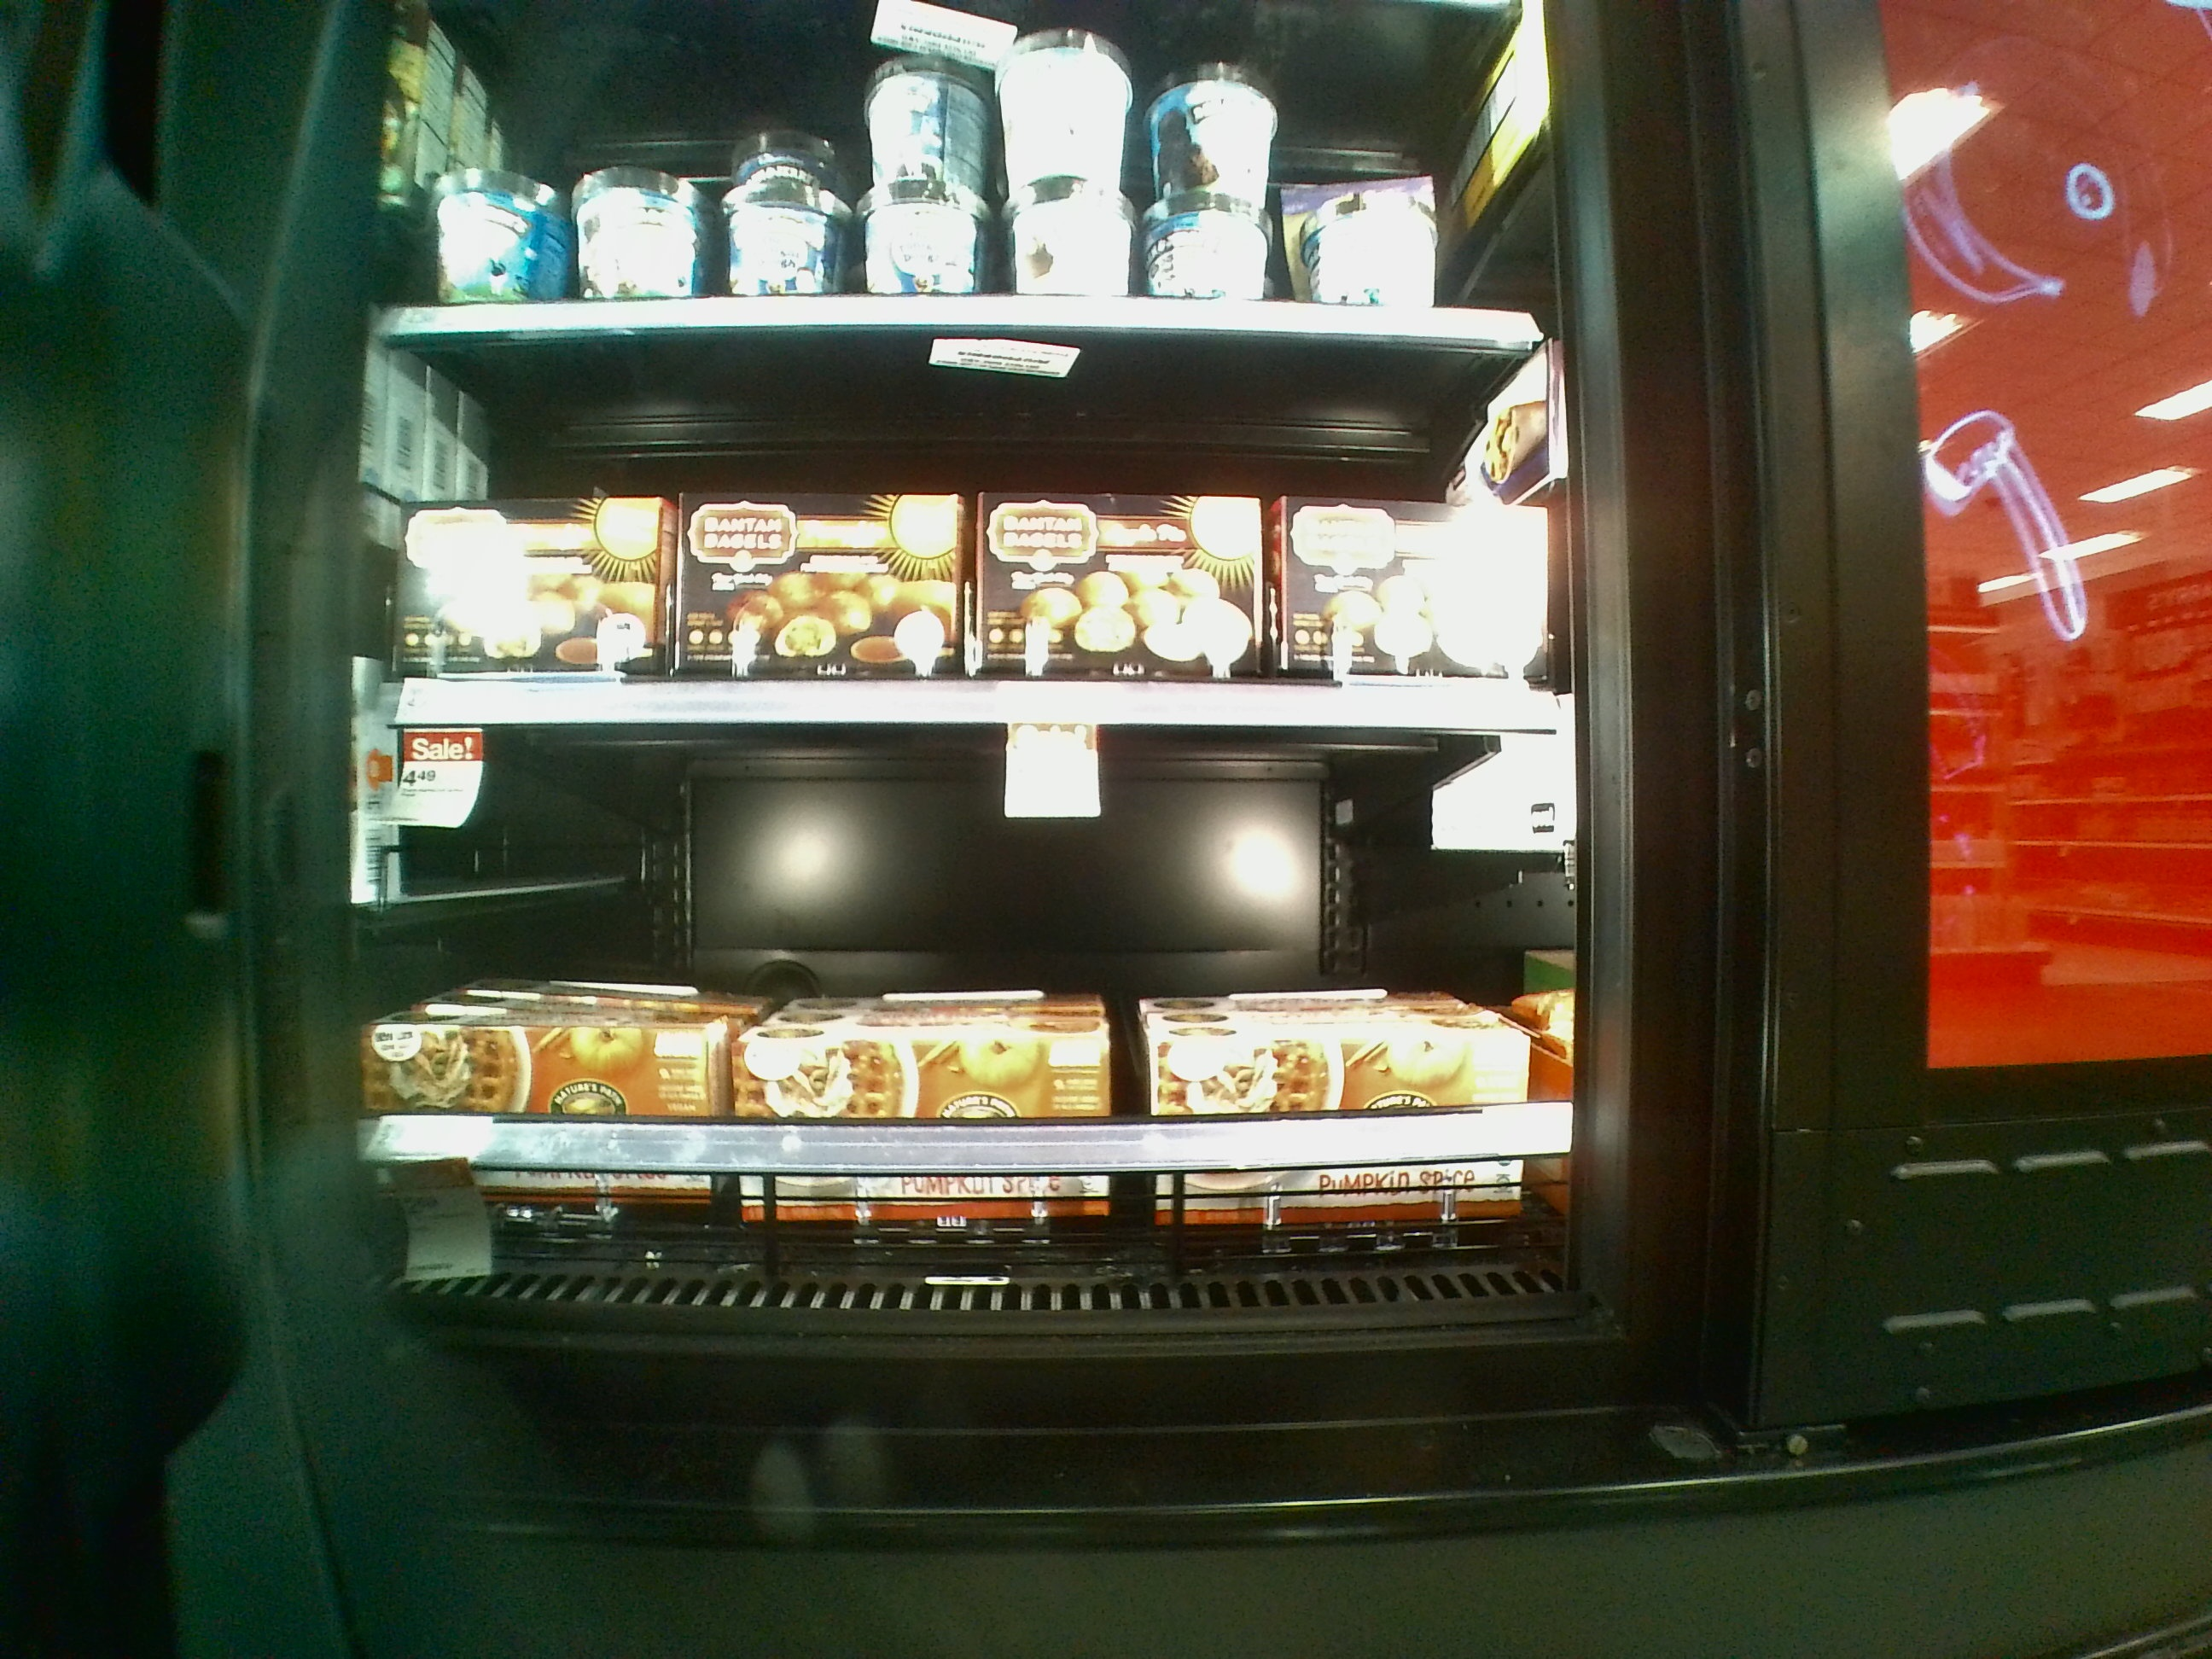shelf: (340, 711, 1597, 1352), (354, 321, 1576, 742)
